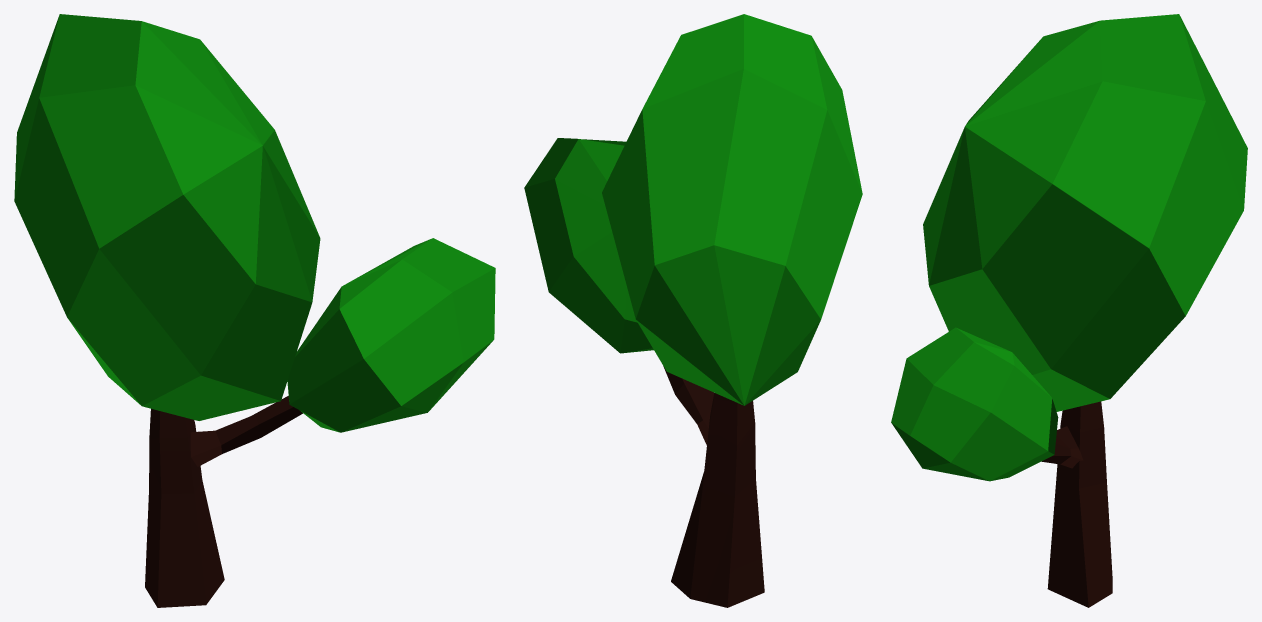
The model's file is Tree4.FBX.
3 renders of one model, left to right at view 1: azimuth 30°, elevation 25°; view 2: azimuth 150°, elevation 25°; view 3: azimuth 270°, elevation 25°, orthographic. The views are drawn at different scales.
Parts seen in each view (by area): view 1: Tree4_c, Tree4_b, Tree4_a; view 2: Tree4_c, Tree4_b, Tree4_a; view 3: Tree4_c, Tree4_b, Tree4_a.
Part boxes in pixels (x1,y1,x2,y2): Tree4_c: [14, 14, 320, 420]; Tree4_b: [287, 238, 495, 432]; Tree4_a: [145, 396, 302, 607]; Tree4_c: [602, 14, 862, 405]; Tree4_b: [524, 138, 653, 353]; Tree4_a: [663, 366, 764, 607]; Tree4_c: [923, 14, 1247, 411]; Tree4_b: [891, 327, 1058, 481]; Tree4_a: [1041, 401, 1112, 607].
Bounding box in the file's own units: 11426 × 17316 × 10160.
